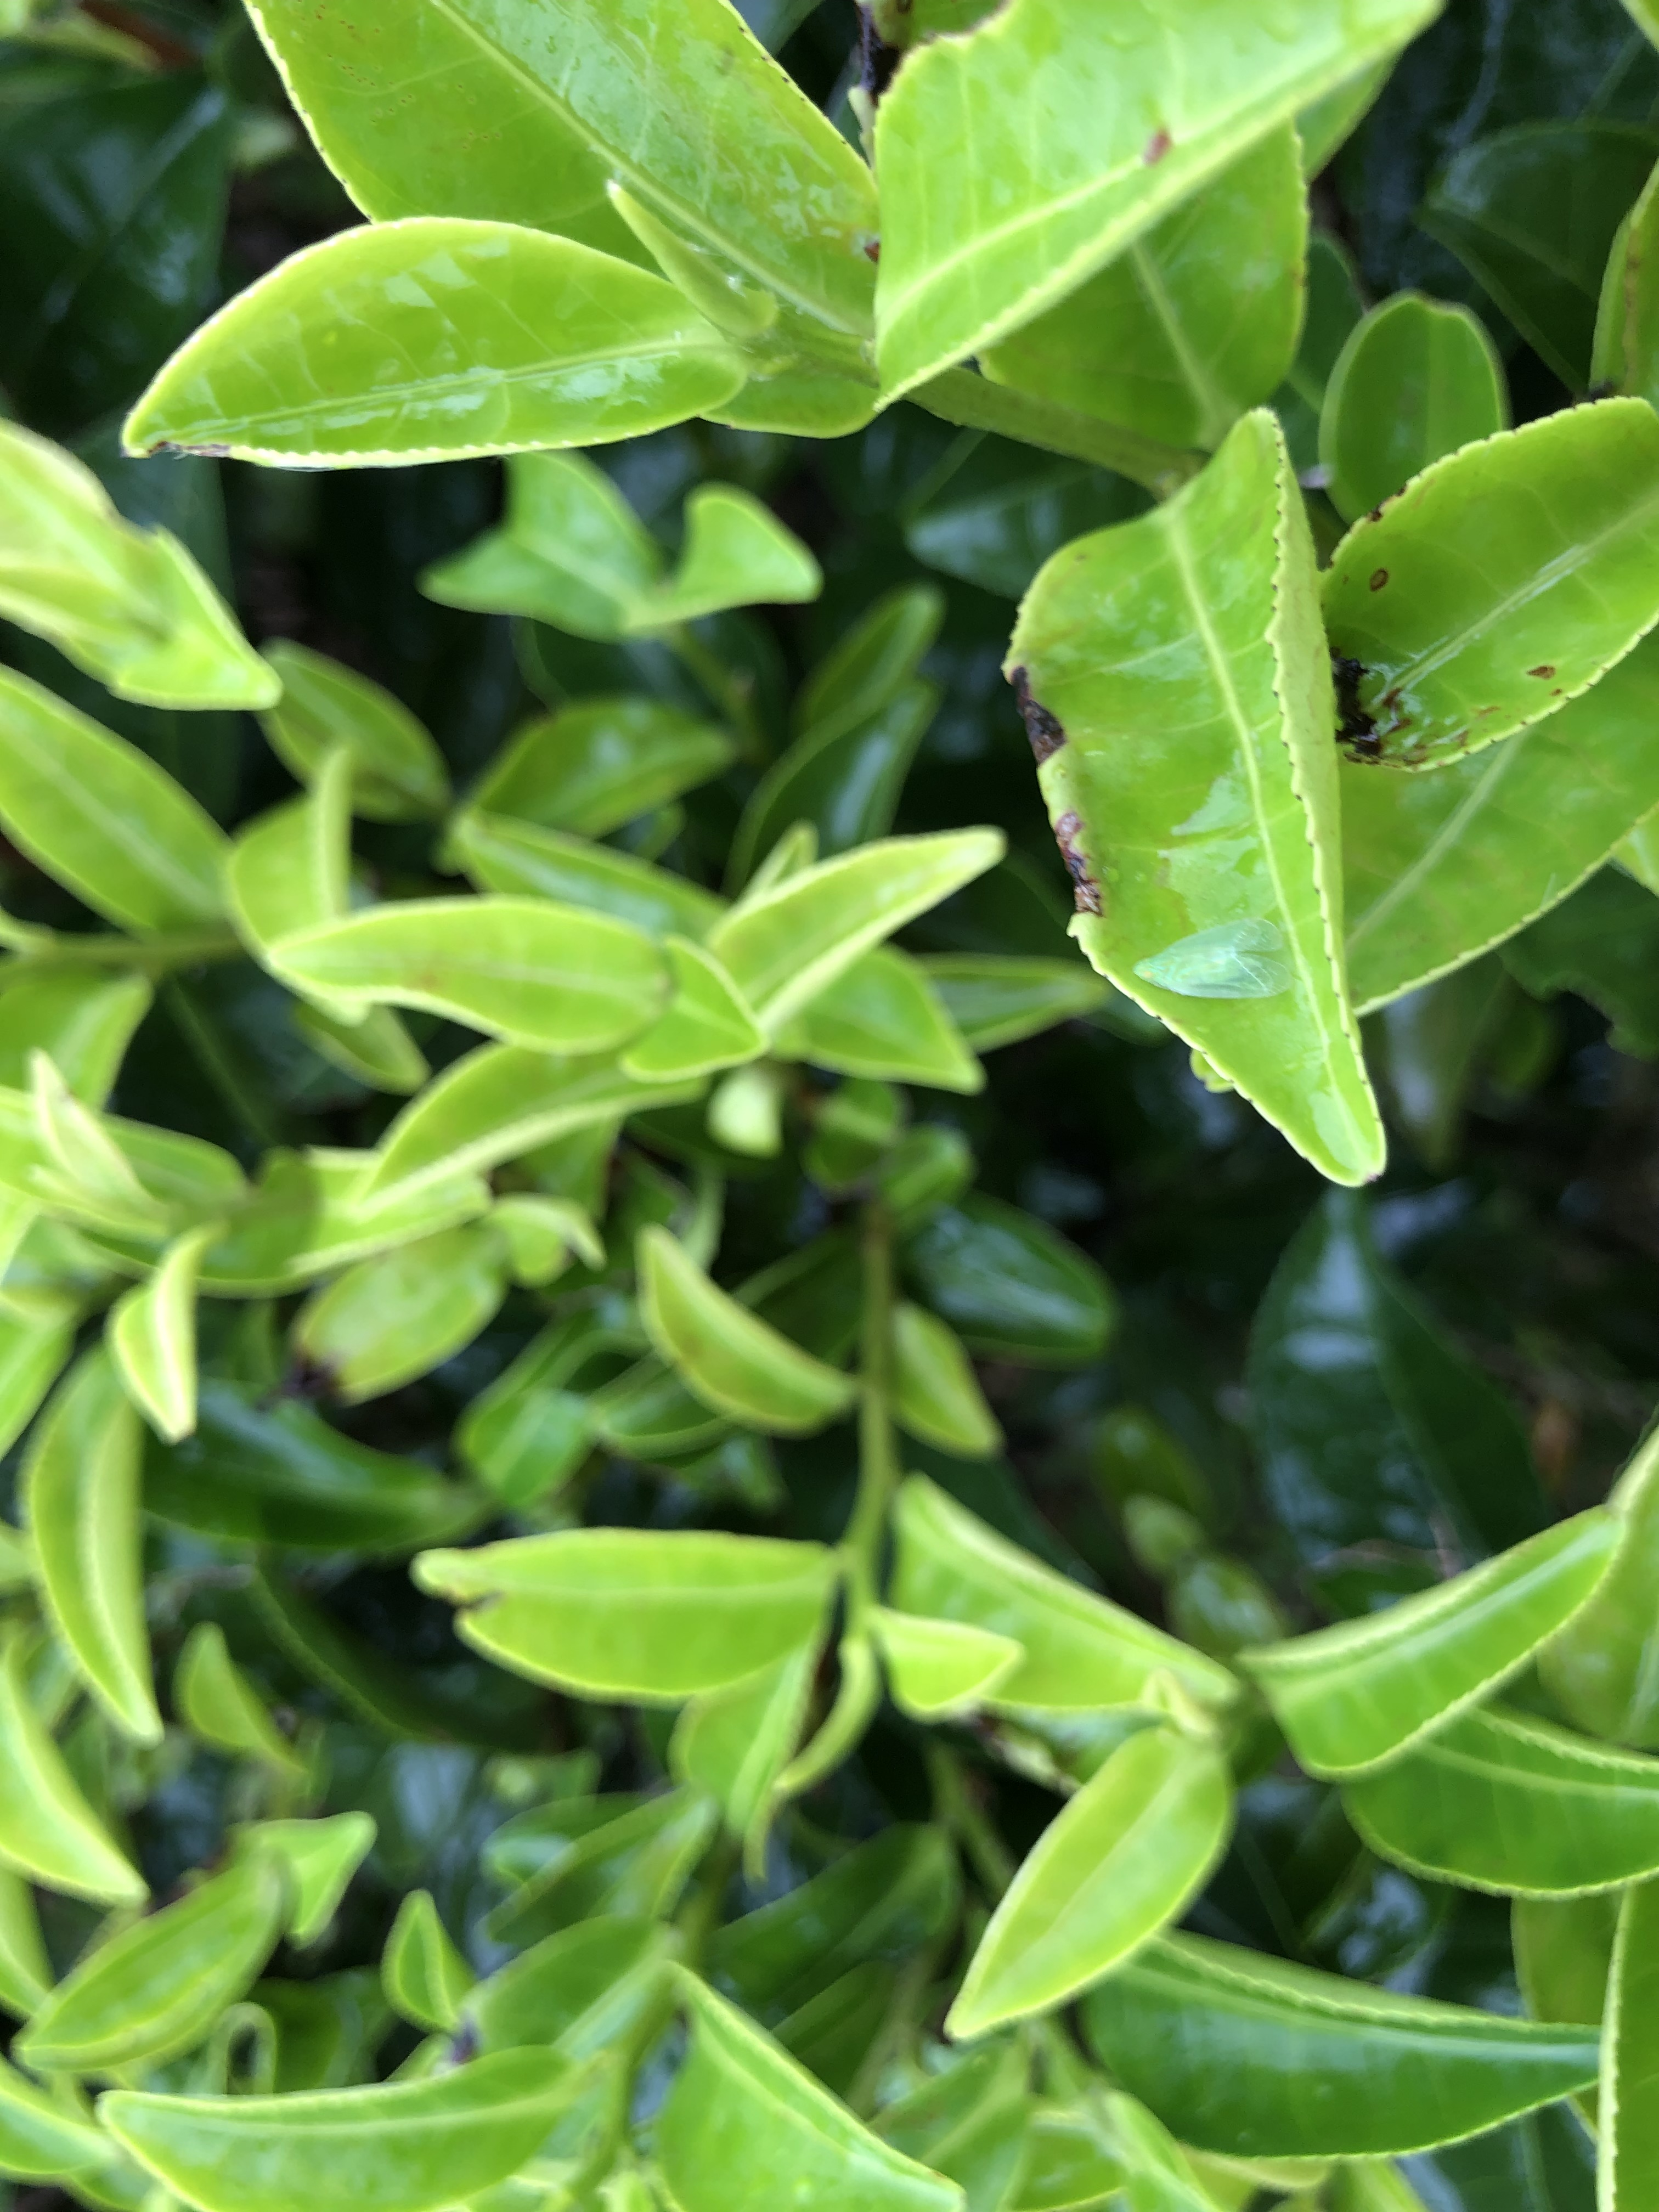thrips: (1007, 387, 1384, 1205), (1321, 385, 1650, 803)
